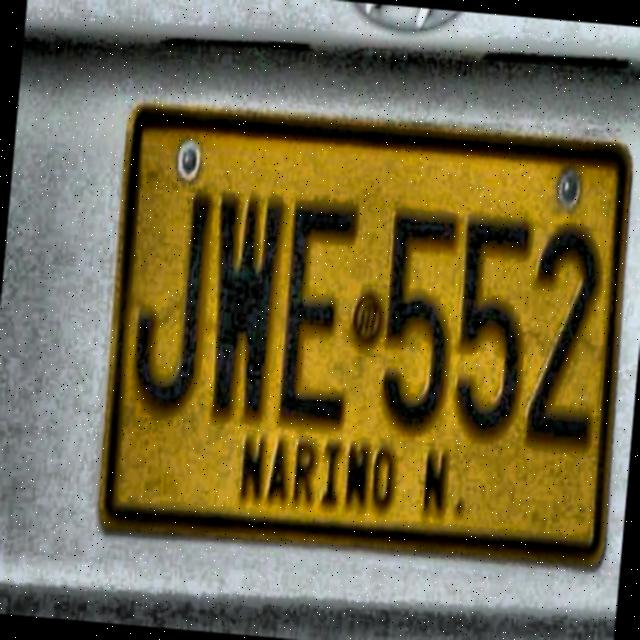2: (517, 218, 613, 451)
5: (444, 212, 537, 446), (372, 205, 463, 436)
E: (272, 198, 364, 431)
J: (123, 186, 220, 422)
W: (195, 190, 292, 431)
